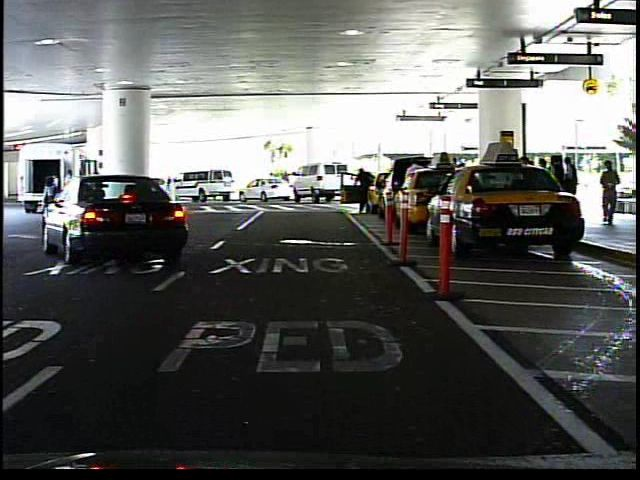person: (599, 158, 624, 227), (353, 163, 377, 219), (280, 169, 291, 197), (267, 171, 277, 178)
